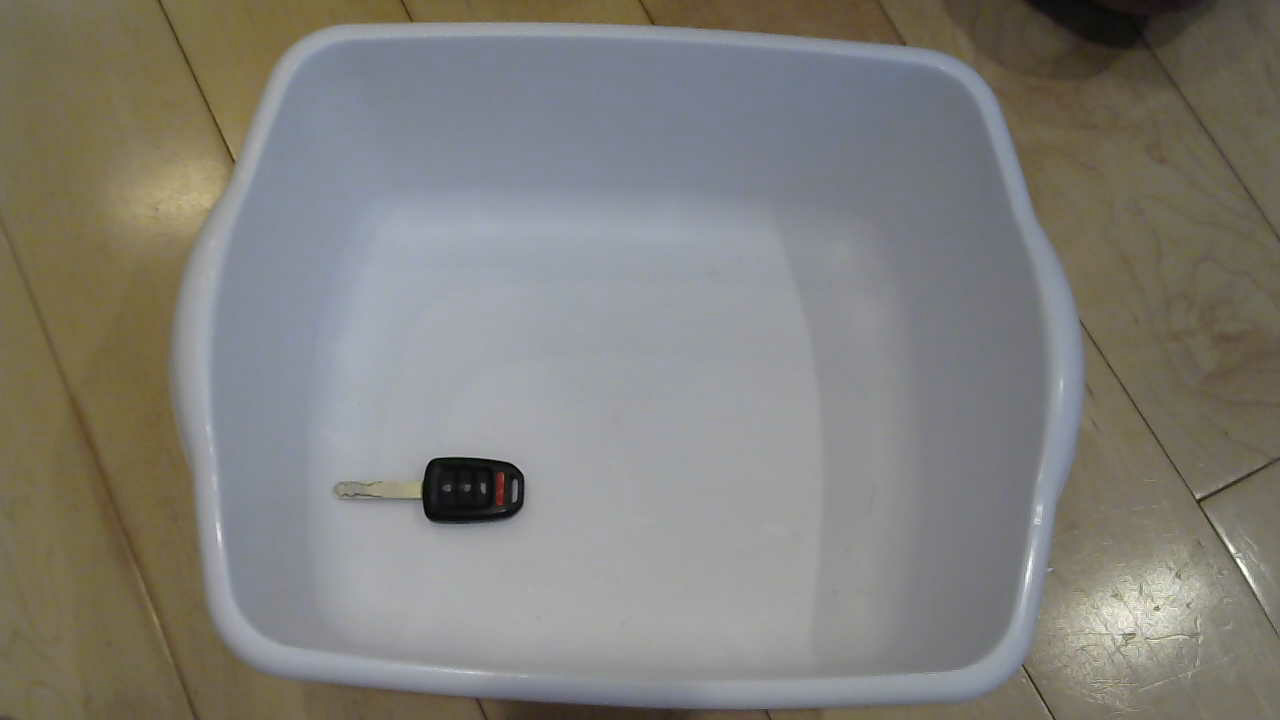key: (328, 445, 554, 546)
